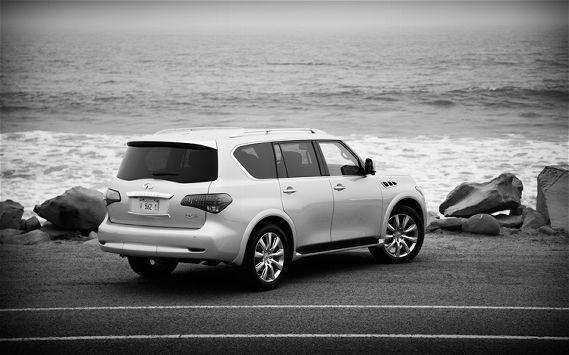car: (95, 125, 430, 291)
